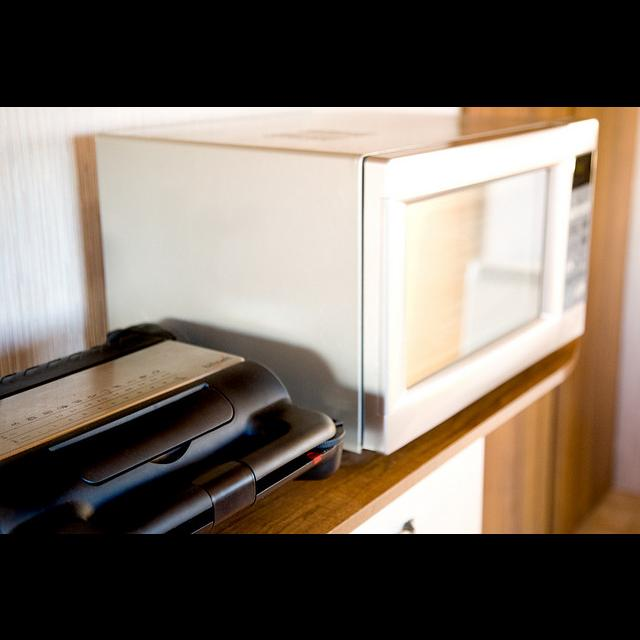Microwave: (96, 106, 598, 455)
